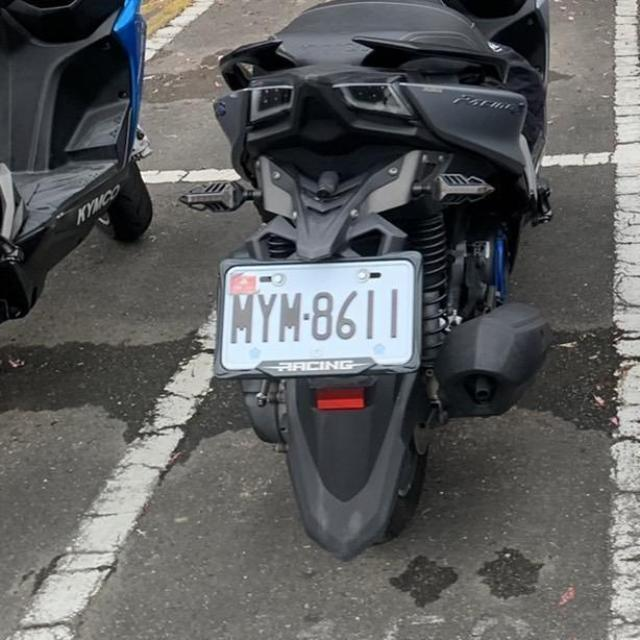W: (210, 243, 428, 391)
